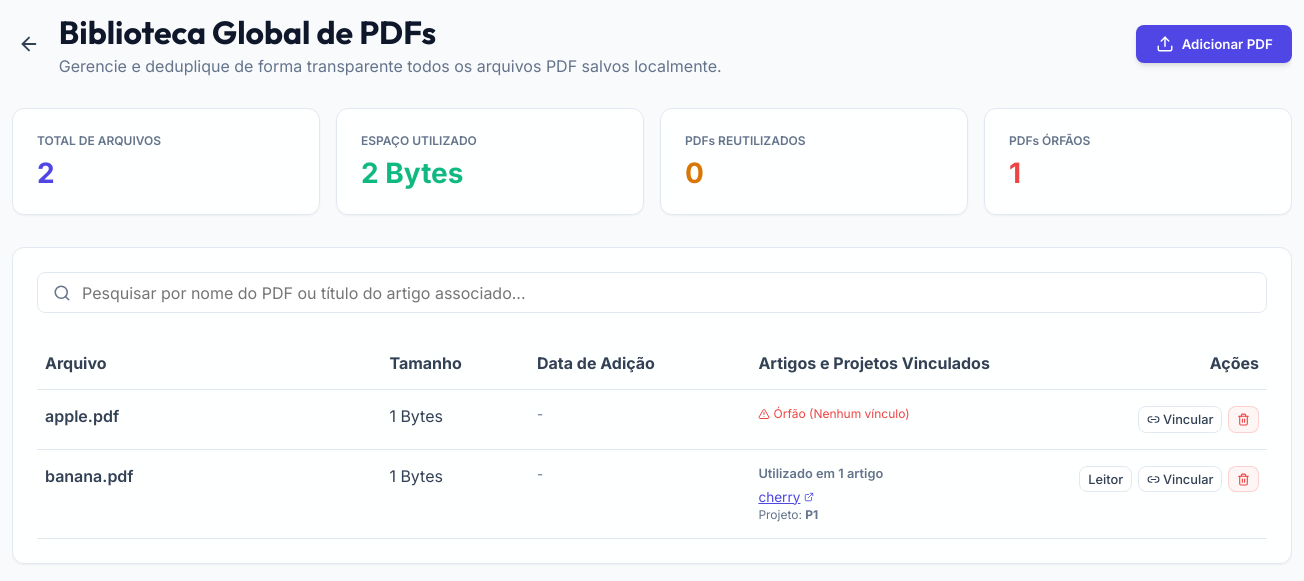
Test: PdfLibraryPage › filters pdfs by search term
This screenshot has width=1304, height=581.
# Search for filename
In the field with placeholder "Pesquisar por nome do PDF ou título do artigo associado...": (652, 293) left=37, top=272, right=1267, bottom=313, type "apple"
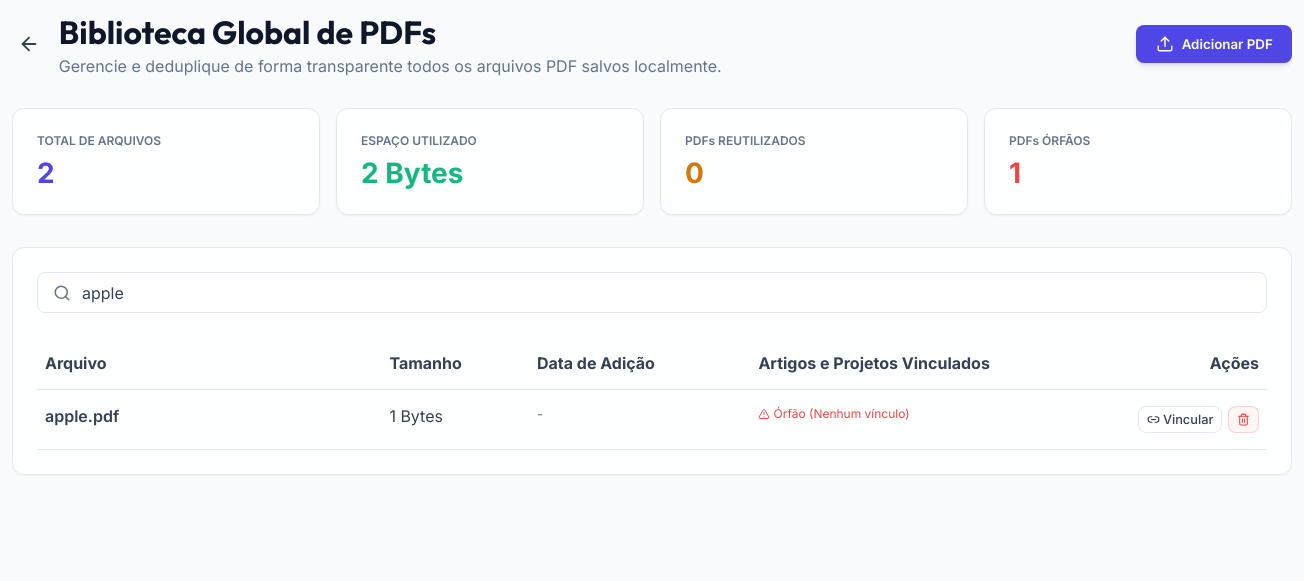
expect the text "apple.pdf" is shown: met, box left=45, top=406, right=119, bottom=426
expect the text "banana.pdf" is gone: met
# Search for article title
Replace the text in the field with placeholder "Pesquisar por nome do PDF ou título do artigo associado..." with "cherry": (652, 293) left=37, top=272, right=1267, bottom=313
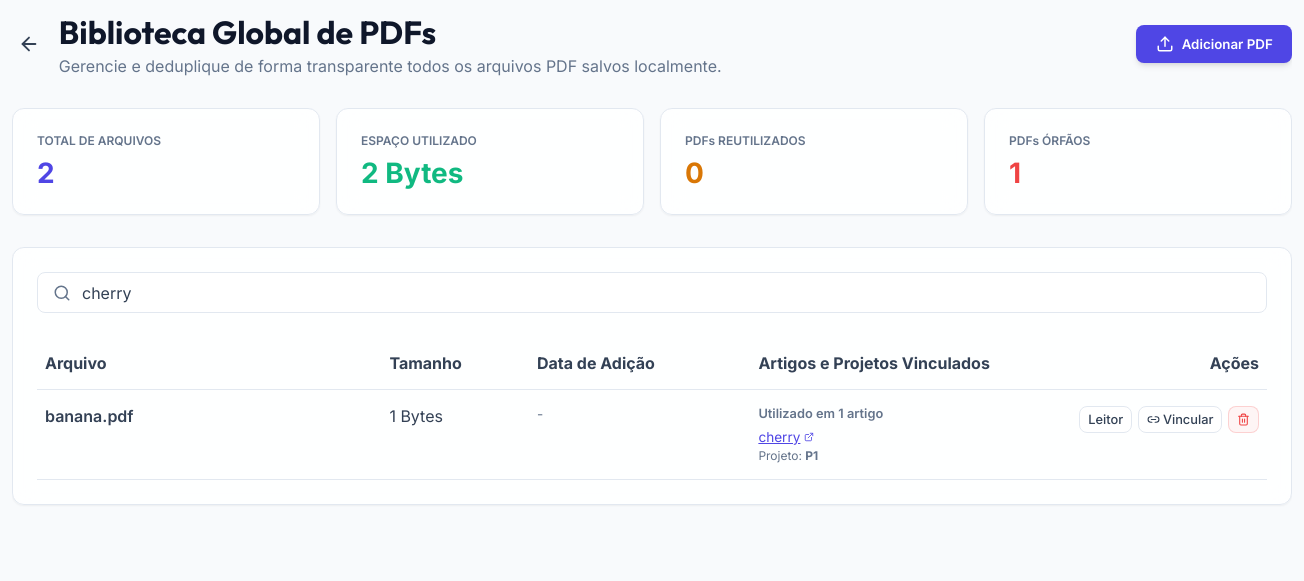
expect the text "apple.pdf" is gone: met
expect the text "banana.pdf" is shown: met, box left=45, top=406, right=134, bottom=426
